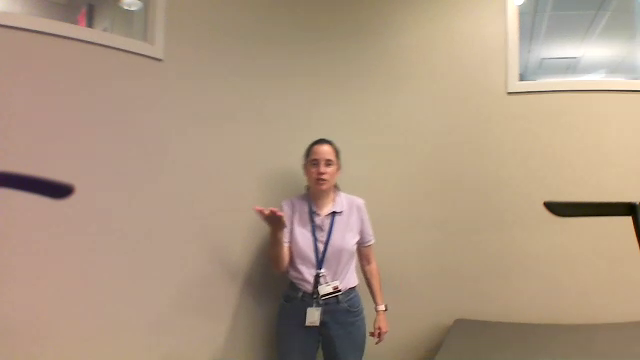land: (246, 193, 299, 240)
